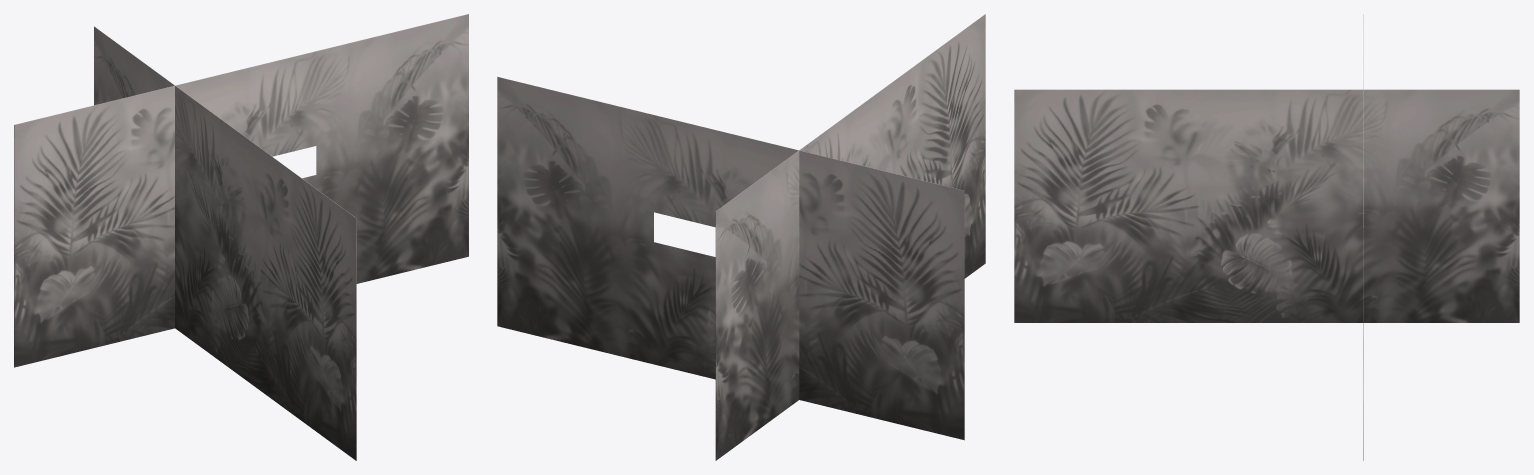
File: Tryptich.glb
3 renders of one model, left to right at view 1: azimuth 30°, elevation 25°; view 2: azimuth 150°, elevation 25°; view 3: azimuth 270°, elevation 25°, orthographic. The views are drawn at different scales.
Parts seen in each view (by area): view 1: tryptich.001, tryptich; view 2: tryptich.001, tryptich; view 3: tryptich.
Boxes of the visible parts, <box> form: tryptich.001: <box>14,14,468,367</box>; tryptich: <box>94,26,356,460</box>; tryptich.001: <box>497,76,964,440</box>; tryptich: <box>715,14,985,460</box>; tryptich: <box>1014,89,1519,322</box>.
Bounding box in the file's own units: 5 × 2.55 × 5.
1 material, 1 textured.
